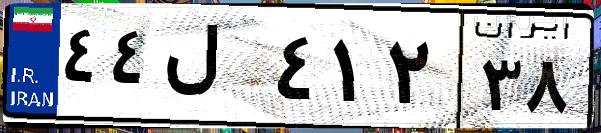1: (330, 28, 385, 110)
2: (385, 28, 445, 110)
3: (475, 38, 525, 113)
4: (270, 28, 330, 110), (57, 26, 110, 100), (110, 28, 158, 98)
8: (525, 38, 570, 115)
ل: (158, 20, 270, 120)
